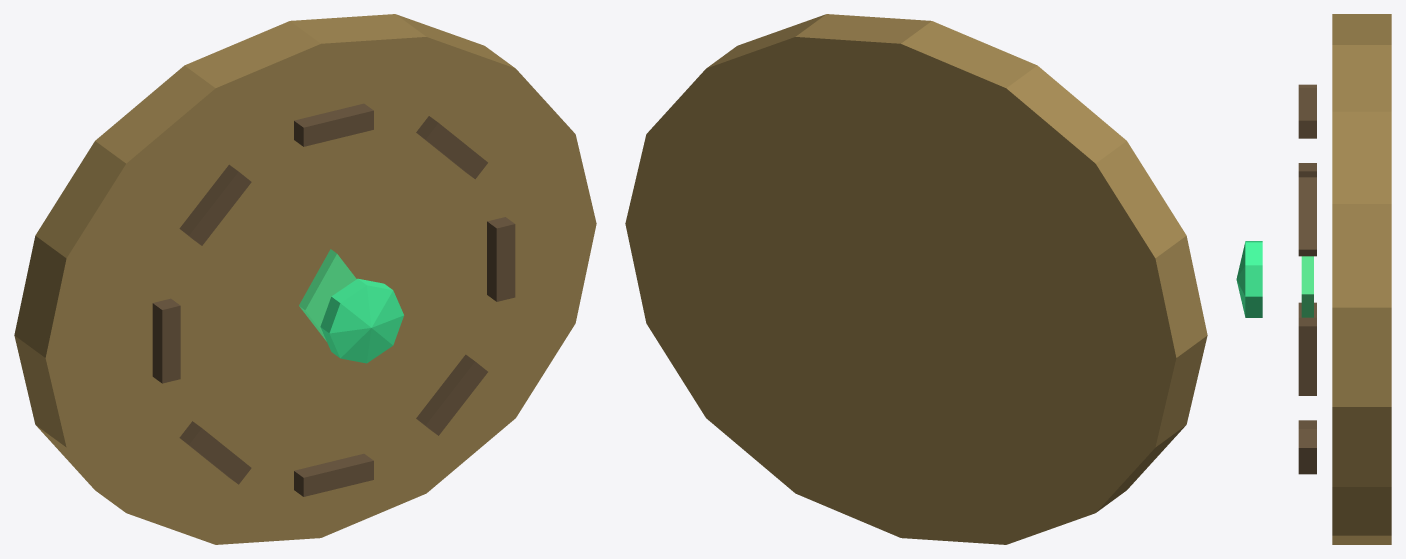
File: eight_trigrams.obj
The picture shows the model from 3 angles, left to right: view 1: azimuth 30°, elevation 25°; view 2: azimuth 150°, elevation 25°; view 3: azimuth 270°, elevation 25°; orthographic projection. The views are drawn at different scales.
Parts seen in each view (by area): view 1: trigram_plate, trigram_plate_edge, trigram_gem, seal_trigram_03_bar, seal_trigram_07_bar, seal_trigram_02_bar, seal_trigram_06_bar, seal_trigram_04_bar, seal_trigram_00_bar, seal_trigram_01_bar, seal_trigram_05_bar, seal_trigram_center; view 2: trigram_plate, trigram_plate_edge; view 3: trigram_plate_edge, trigram_gem, seal_trigram_01_bar, seal_trigram_02_bar, seal_trigram_00_bar, seal_trigram_03_bar, seal_trigram_center_edge, seal_trigram_06_bar.
Part boxes in pixels (x1,y1,x2,y2): trigram_plate: (45, 37, 596, 544); trigram_plate_edge: (14, 14, 514, 512); trigram_gem: (320, 278, 403, 363); seal_trigram_03_bar: (416, 354, 487, 435); seal_trigram_07_bar: (179, 164, 251, 245); seal_trigram_02_bar: (487, 217, 515, 301); seal_trigram_06_bar: (152, 298, 180, 383); seal_trigram_04_bar: (294, 453, 373, 496); seal_trigram_00_bar: (294, 103, 373, 146); seal_trigram_01_bar: (416, 116, 487, 179); seal_trigram_05_bar: (179, 421, 251, 484); seal_trigram_center: (305, 254, 356, 332); trigram_plate: (625, 37, 1176, 544); trigram_plate_edge: (707, 14, 1207, 512); trigram_plate_edge: (1332, 14, 1391, 544); trigram_gem: (1236, 241, 1262, 317); seal_trigram_01_bar: (1298, 177, 1316, 256); seal_trigram_02_bar: (1298, 317, 1316, 395); seal_trigram_00_bar: (1298, 88, 1316, 138); seal_trigram_03_bar: (1298, 429, 1316, 474); seal_trigram_center_edge: (1301, 256, 1313, 317); seal_trigram_06_bar: (1298, 163, 1316, 177).
Size of the model in its own units: 0.56 by 0.48 by 0.1438.
